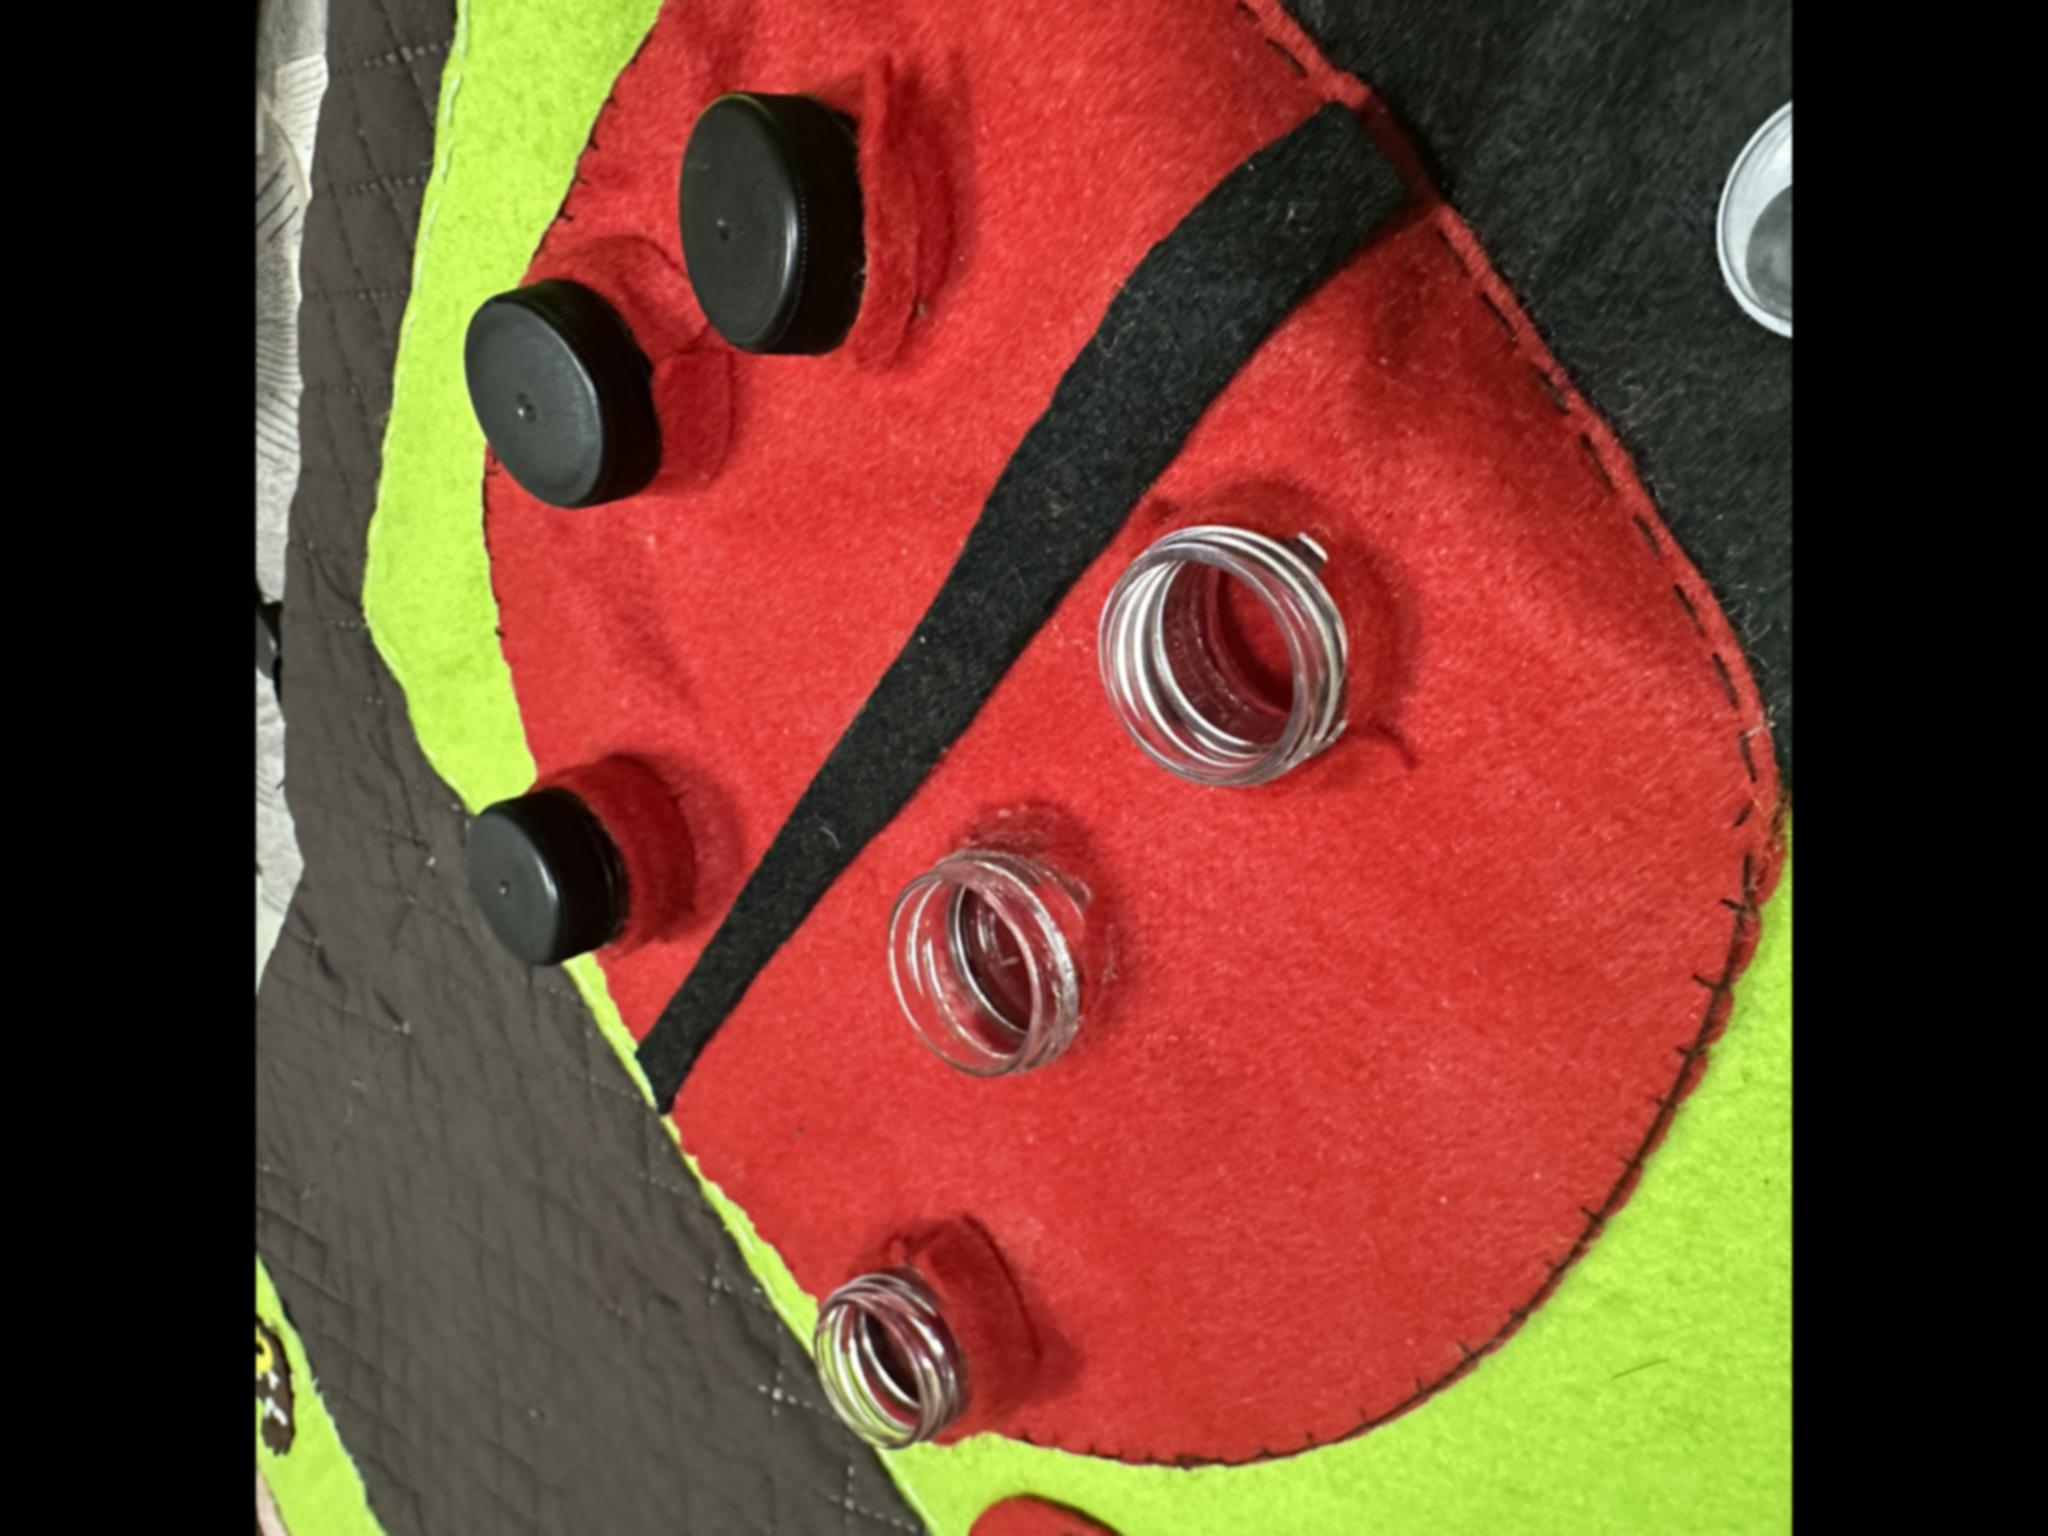cap_ok: (655, 58, 919, 365), (453, 232, 679, 545), (440, 736, 682, 984)
